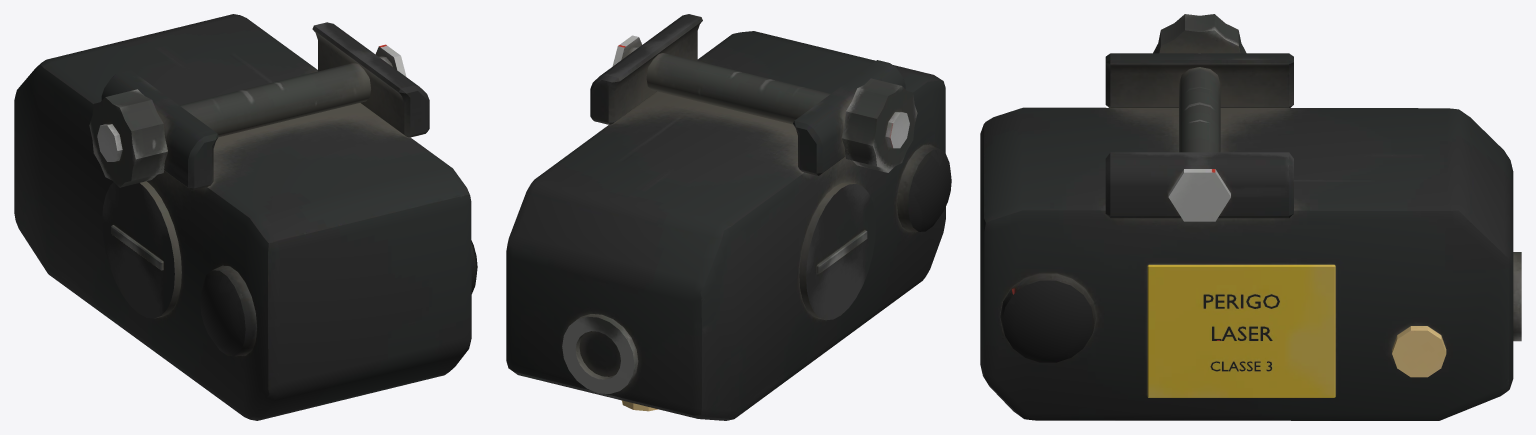
File: laser_pistola.glb
3 views of the same model, side by side, from view 1: azimuth 30°, elevation 25°; view 2: azimuth 150°, elevation 25°; view 3: azimuth 270°, elevation 25° (orthographic). The views are drawn at different scales.
Parts seen in each view (by area): view 1: laser_pistola_corpo; view 2: laser_pistola_corpo; view 3: laser_pistola_corpo.
Boxes of the visible parts, left/top/right/bottom form: laser_pistola_corpo: left=14, top=14, right=477, bottom=420; laser_pistola_corpo: left=506, top=14, right=951, bottom=420; laser_pistola_corpo: left=980, top=14, right=1521, bottom=420.
Bounding box in the file's own units: 0.0327 × 0.0309 × 0.0518.
2 materials, 1 textured.
